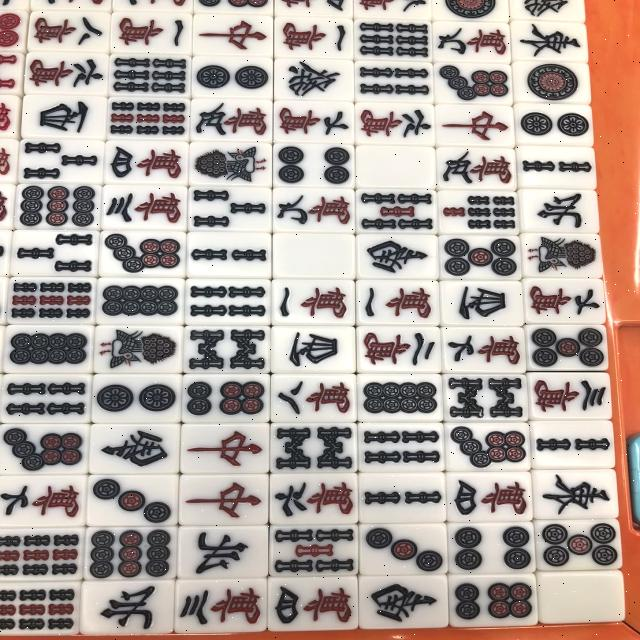bamboos_1: (93, 326, 181, 372), (520, 230, 601, 276), (187, 144, 270, 187)
bamboos_2: (183, 232, 274, 280), (359, 472, 444, 521), (533, 419, 612, 467), (516, 145, 595, 189)
bamboos_3: (186, 186, 274, 233), (14, 230, 100, 277), (14, 139, 102, 184)
bamboos_4: (359, 421, 443, 472), (184, 278, 270, 326), (356, 62, 434, 102)
bamboos_5: (268, 526, 358, 573), (355, 188, 436, 236)
bamboos_6: (109, 56, 191, 96), (354, 21, 433, 61)
bamboos_7: (437, 189, 517, 232)
bamboos_8: (270, 422, 358, 472), (442, 374, 530, 423), (179, 325, 270, 372)
bamboos_9: (5, 276, 97, 325), (103, 97, 189, 140)
characters_1: (358, 279, 442, 325), (270, 280, 354, 326), (273, 18, 354, 60), (110, 14, 194, 53)
characters_2: (356, 324, 440, 372)
characters_3: (174, 578, 267, 632), (102, 186, 190, 228), (531, 372, 610, 418)
characters_4: (269, 576, 357, 630), (446, 471, 532, 523), (105, 142, 186, 182)
characters_5: (435, 146, 517, 190), (191, 99, 272, 140)
characters_6: (269, 472, 357, 524), (355, 103, 436, 146), (25, 55, 110, 95)
characters_7: (439, 326, 526, 374), (524, 277, 603, 323), (274, 101, 355, 143)
characters_8: (269, 375, 356, 422), (27, 13, 113, 52)
characters_9: (274, 188, 358, 234), (434, 21, 510, 62)
circles_1: (512, 61, 591, 104)
circles_2: (92, 374, 182, 421), (191, 58, 273, 97), (516, 105, 592, 145)
circles_3: (86, 473, 180, 526), (358, 522, 447, 574)
circles_4: (446, 522, 535, 575), (273, 144, 355, 189)
circles_5: (538, 517, 619, 572), (439, 233, 524, 282), (528, 323, 606, 369)
circles_6: (452, 573, 538, 626), (183, 375, 269, 423)
circles_7: (444, 421, 532, 472), (97, 230, 187, 278), (433, 62, 511, 102)
circles_8: (2, 326, 94, 374), (357, 372, 442, 422), (95, 279, 185, 326)
circles_9: (84, 526, 175, 580), (9, 183, 101, 228)
east: (533, 468, 615, 520), (512, 23, 587, 61)
green: (275, 59, 354, 100)
north: (175, 524, 269, 580), (82, 581, 174, 634), (520, 190, 598, 233)
red: (181, 420, 270, 472), (181, 472, 267, 524), (191, 15, 277, 58), (435, 104, 516, 145)
south: (86, 423, 181, 474), (361, 575, 447, 629), (355, 234, 439, 277)
west: (440, 279, 526, 325), (274, 326, 355, 372), (24, 96, 106, 140)
white: (539, 569, 622, 622), (272, 233, 356, 280), (353, 146, 435, 190)
